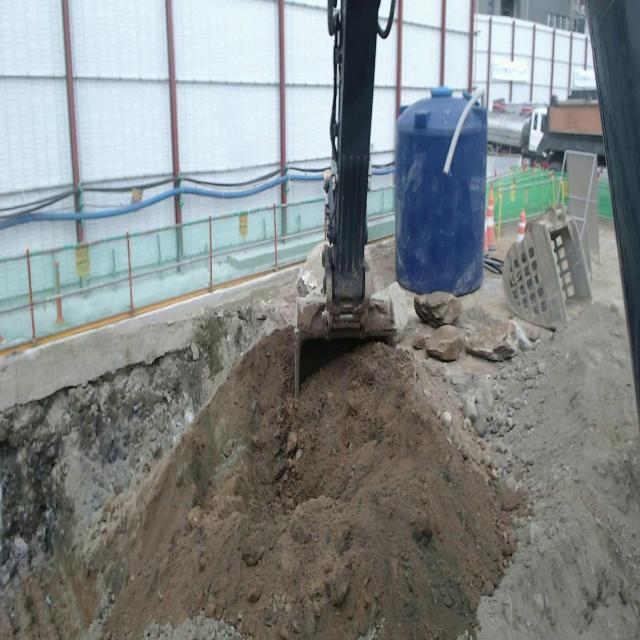cement: (0, 269, 294, 410)
red-sand: (0, 307, 640, 639)
stone: (464, 321, 523, 361), (372, 282, 412, 331), (414, 292, 462, 328), (296, 241, 325, 300), (425, 325, 464, 361)
